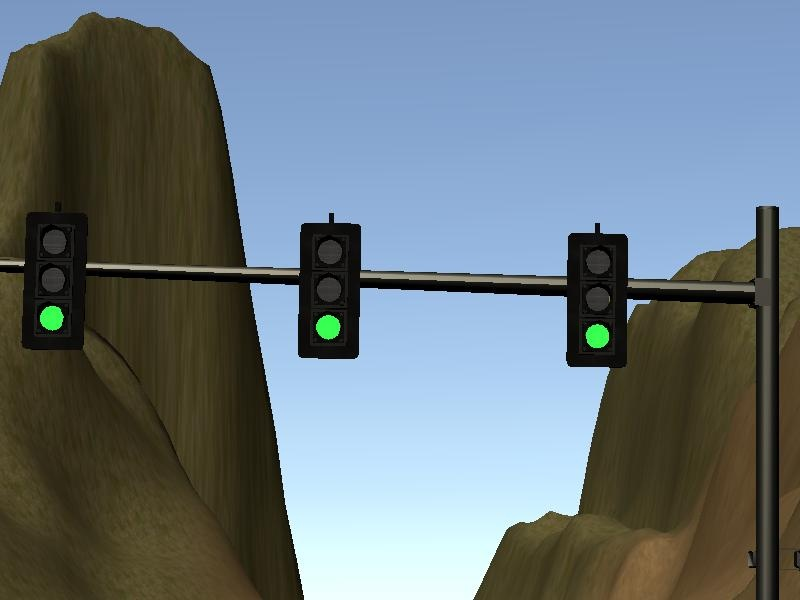GREEN: (296, 223, 362, 359), (22, 213, 87, 351), (566, 233, 629, 367)
